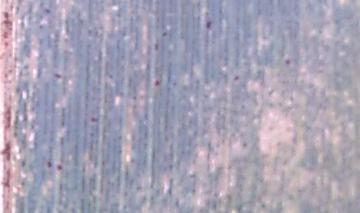tarspot: (202, 18, 214, 29), (88, 115, 97, 126), (152, 41, 161, 52), (54, 163, 64, 172), (153, 78, 162, 88), (283, 58, 293, 67), (233, 74, 242, 83), (160, 29, 168, 39), (54, 72, 63, 80), (44, 160, 53, 168), (241, 140, 249, 148), (42, 7, 51, 14)
